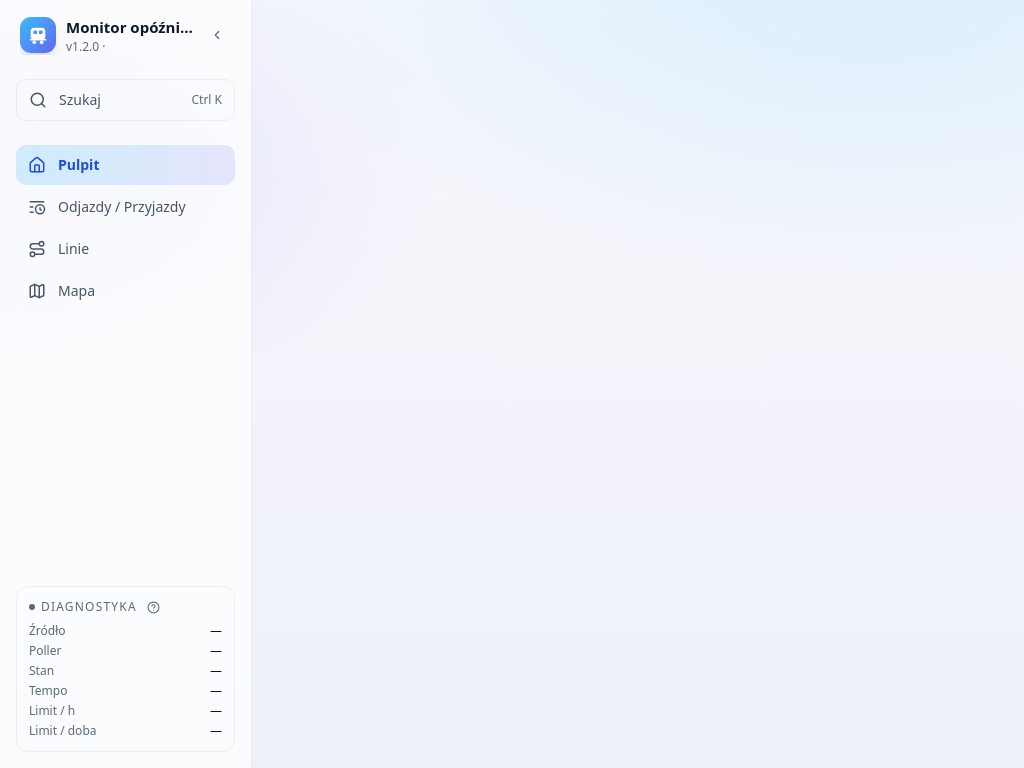
Sidebar › zwinięty sidebar zostawia przycisk „Szukaj" tylko jako ikonę z nazwą
Click the button named "Zwiń pasek boczny": (217,35) [203,21,231,49]
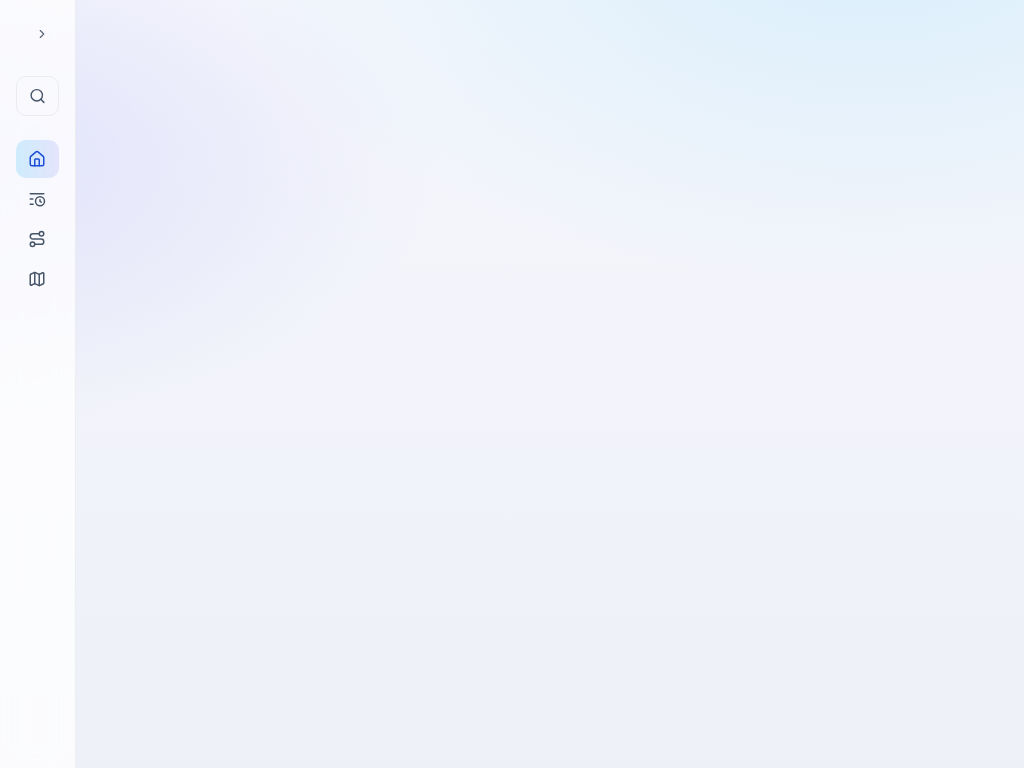
Expected: the text "Ctrl K" is gone
